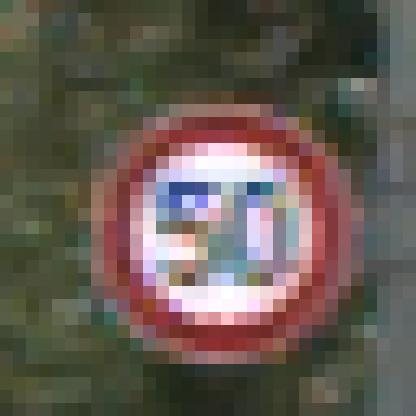Speed Limit 50: (113, 103, 347, 357)
